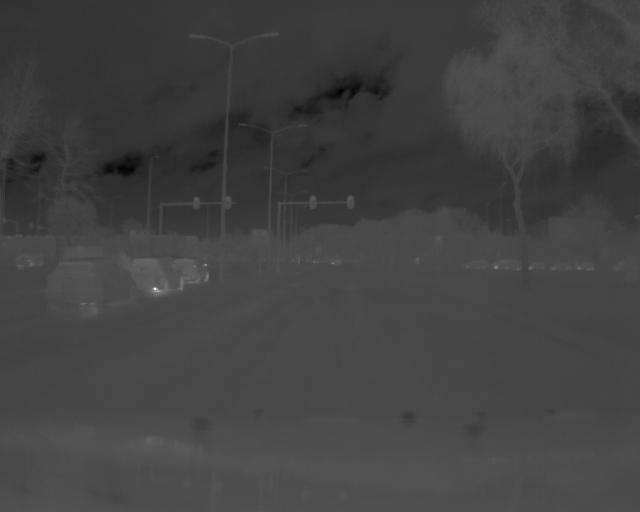car: (46, 260, 143, 316), (133, 256, 185, 293), (170, 255, 214, 282), (12, 249, 50, 269)
